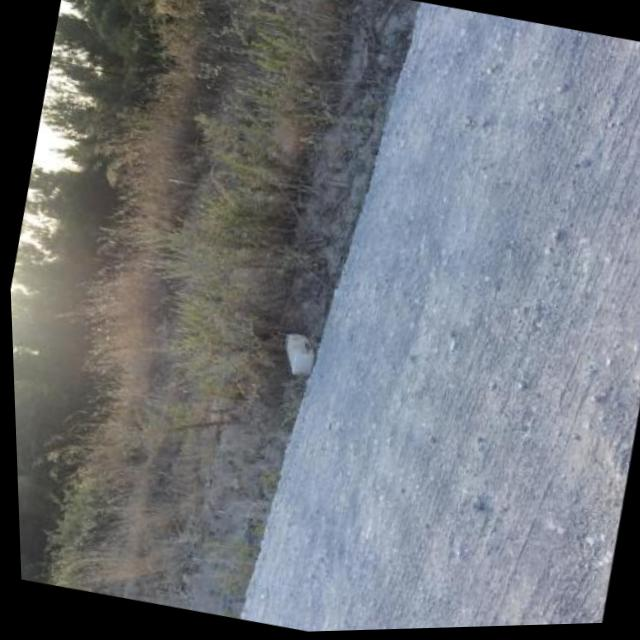foam: (281, 331, 321, 378)
